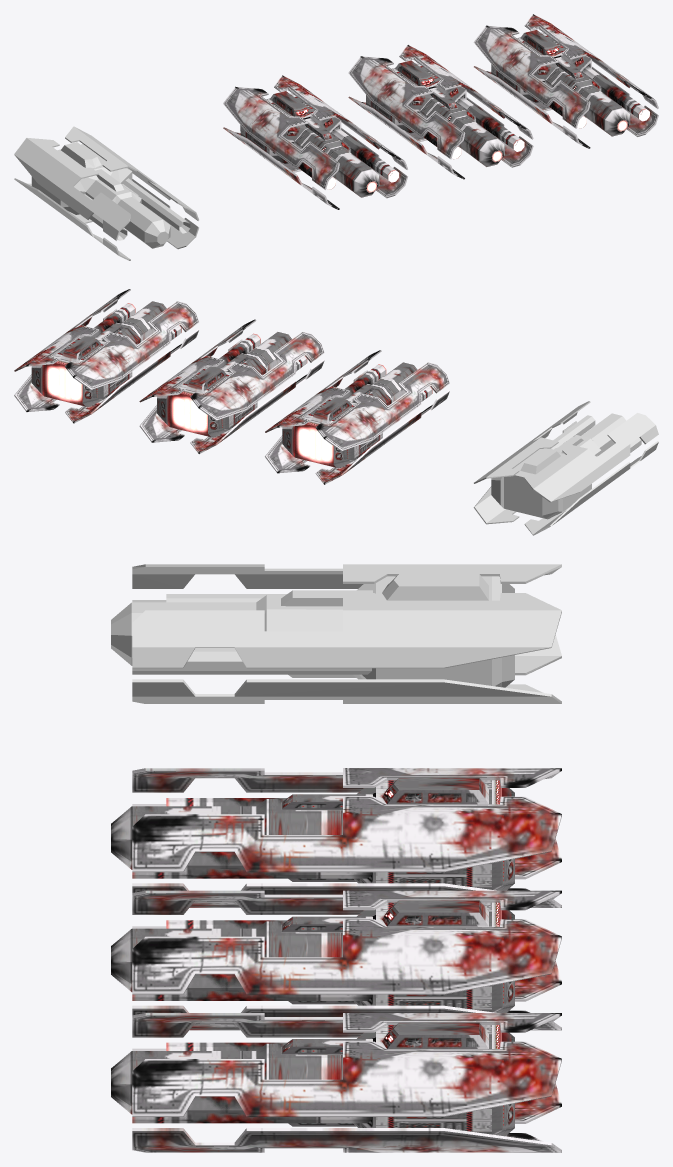
The model's file is bst_naggarok.DAE.
3 renders of one model, top to bottom at view 1: azimuth 30°, elevation 25°; view 2: azimuth 150°, elevation 25°; view 3: azimuth 270°, elevation 25°, orthographic. The views are drawn at different scales.
Parts seen in each view (by area): view 1: COL[Root], MULT[root_mesh]_LOD[1], MULT[root_mesh]_LOD[2], MULT[root_mesh]_LOD[0]; view 2: MULT[root_mesh]_LOD[0], MULT[root_mesh]_LOD[2], COL[Root], MULT[root_mesh]_LOD[1]; view 3: MULT[root_mesh]_LOD[2], COL[Root], MULT[root_mesh]_LOD[1], MULT[root_mesh]_LOD[0].
Part boxes in pixels (x1,y1,x2,y2): COL[Root]: (14,126,198,260); MULT[root_mesh]_LOD[1]: (348,45,533,179); MULT[root_mesh]_LOD[2]: (473,14,658,148); MULT[root_mesh]_LOD[0]: (223,75,407,209); MULT[root_mesh]_LOD[0]: (265,350,449,484); MULT[root_mesh]_LOD[2]: (14,289,198,423); COL[Root]: (473,401,658,535); MULT[root_mesh]_LOD[1]: (139,319,324,453); MULT[root_mesh]_LOD[2]: (111,1013,561,1152); COL[Root]: (111,564,561,703); MULT[root_mesh]_LOD[1]: (111,890,561,1030); MULT[root_mesh]_LOD[0]: (111,768,561,907).
Size of the model in its own units: 6768 by 601 by 2434.
Materials: 11 (11 with a texture image).
